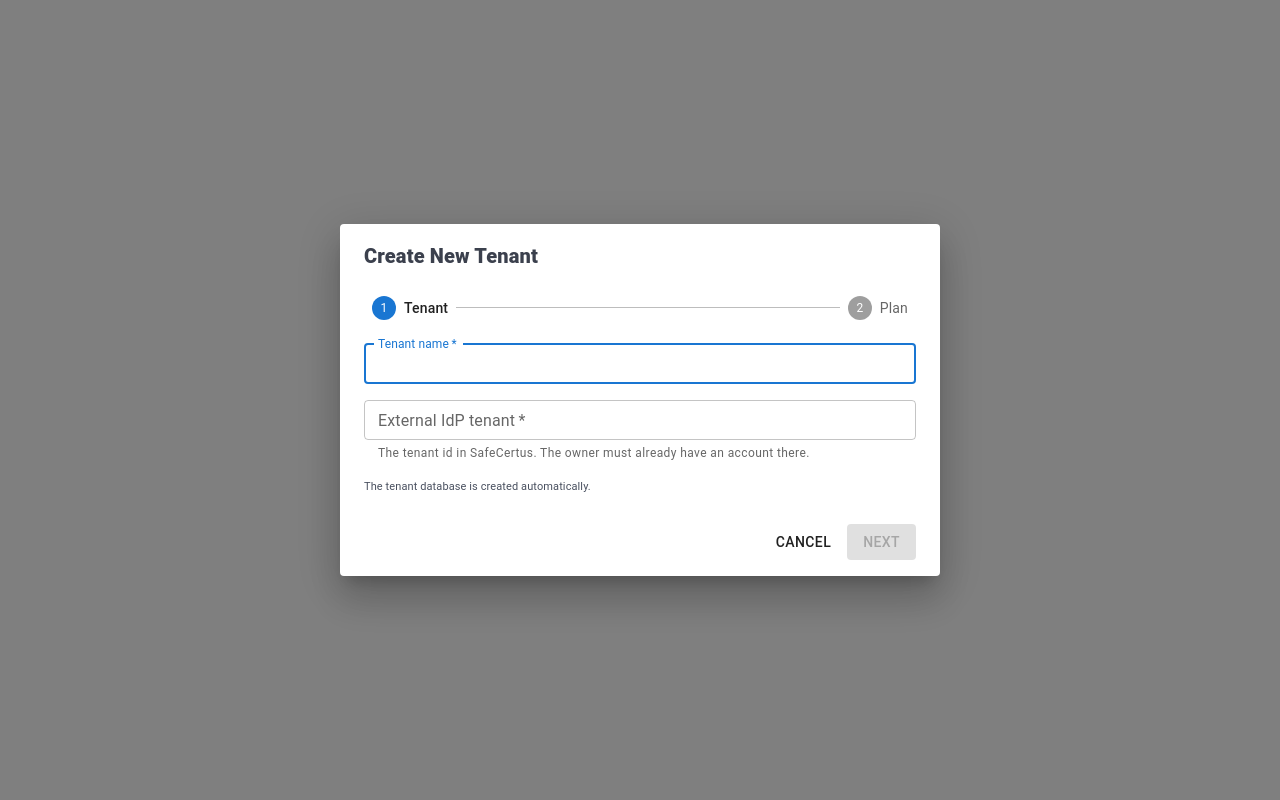
Test: Create New Tenant › sin licencias no se crea nada
Type "Globex" into the field labelled "Tenant name *".
click(640, 364); type("Globex")  # box [364, 344, 916, 384]
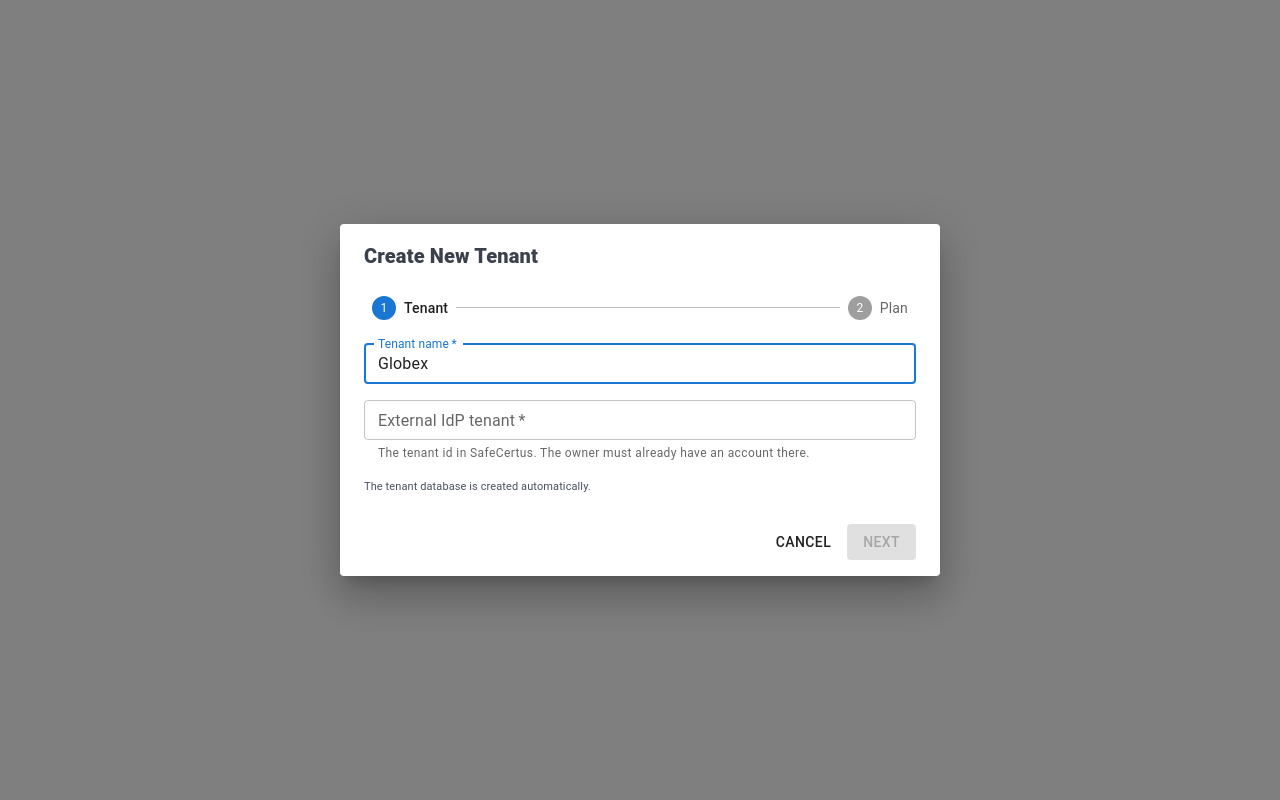
Type "ext-globex" into the field labelled "External IdP tenant *".
click(640, 420); type("ext-globex")  # box [364, 400, 916, 440]
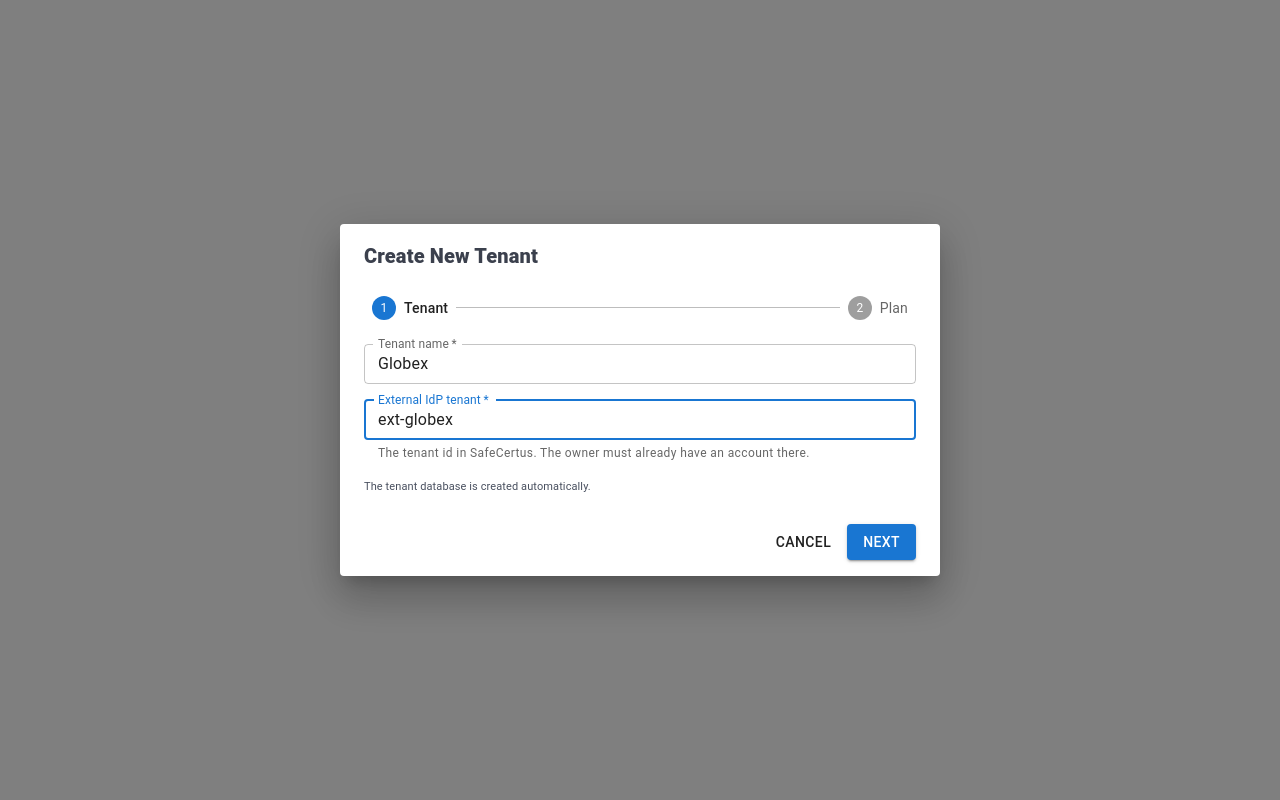
Click the button "Next".
click(882, 542)  # box [847, 524, 916, 560]
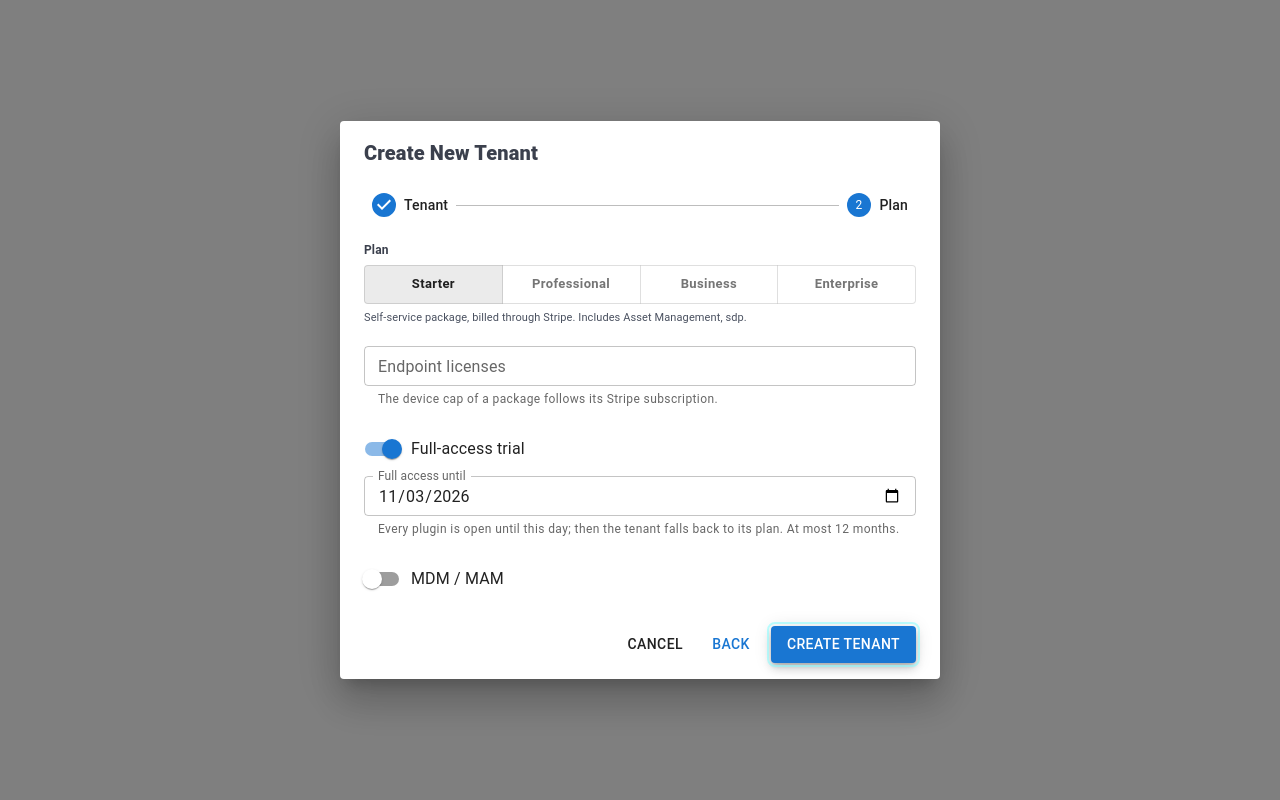
Click the button "Create tenant".
click(843, 645)  # box [771, 626, 916, 663]
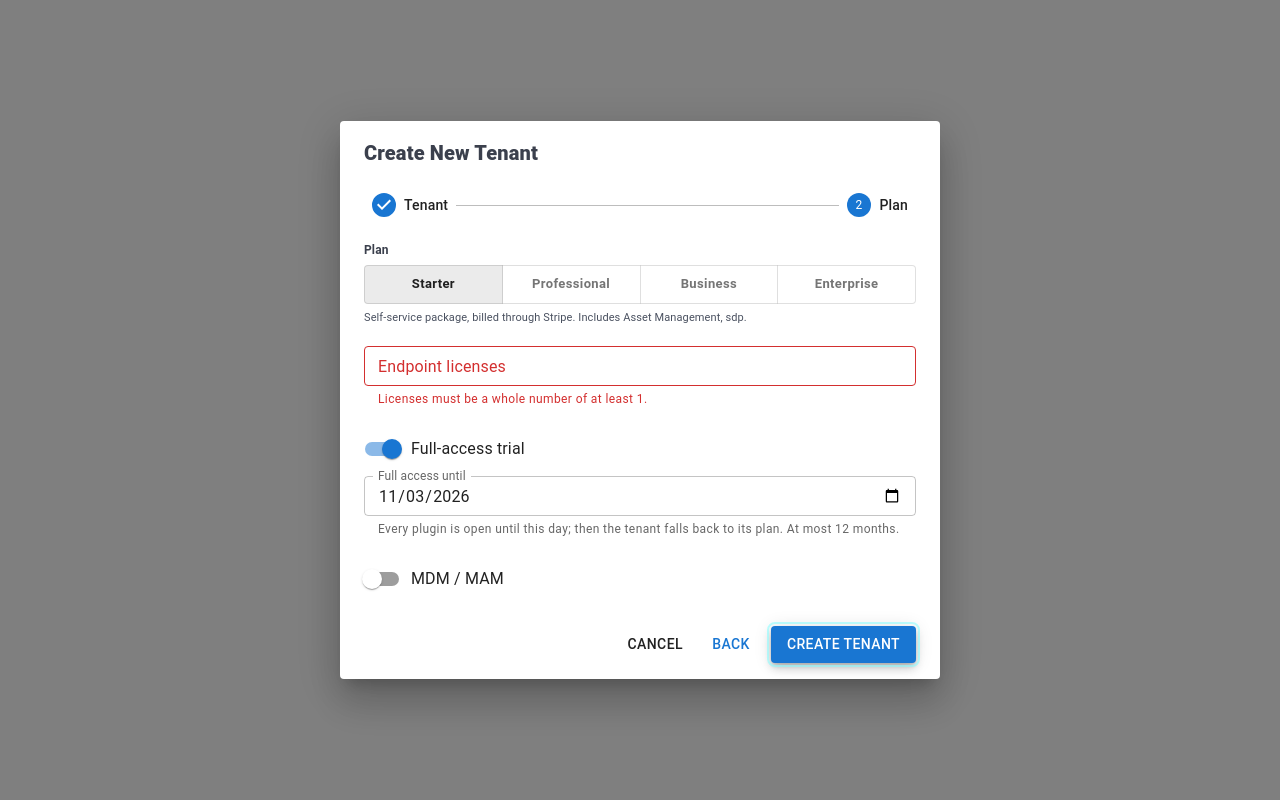
Check: the text "Licenses must be a whole number of at least 1." is shown, box [378, 392, 648, 406]
